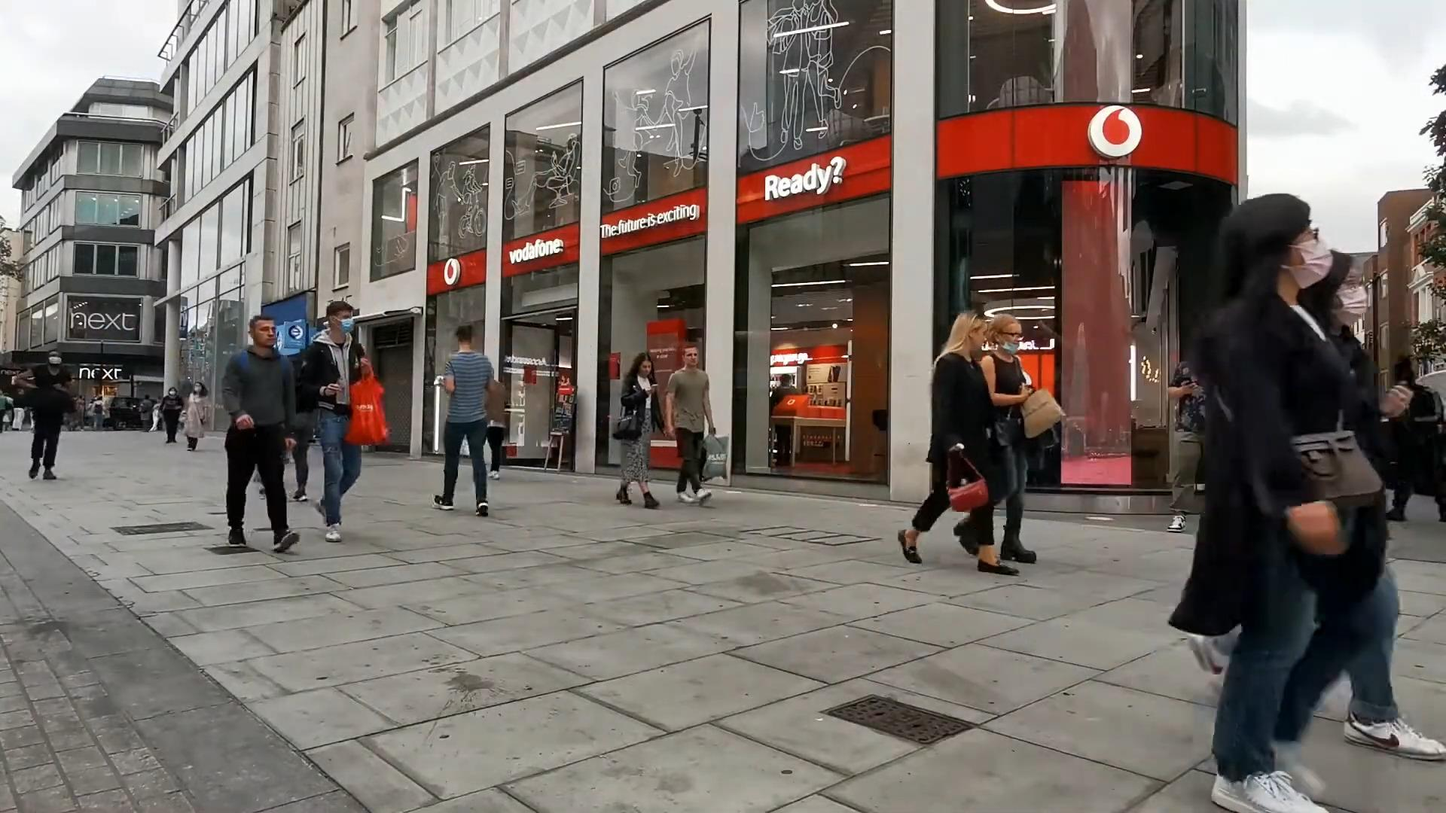no-helmet: (1210, 193, 1333, 290), (1297, 250, 1369, 333), (947, 311, 988, 351), (986, 314, 1023, 357), (247, 315, 276, 348), (327, 301, 355, 334), (631, 353, 654, 375), (681, 343, 698, 367), (456, 325, 473, 344), (47, 349, 62, 366), (194, 381, 208, 398), (168, 387, 178, 397)
